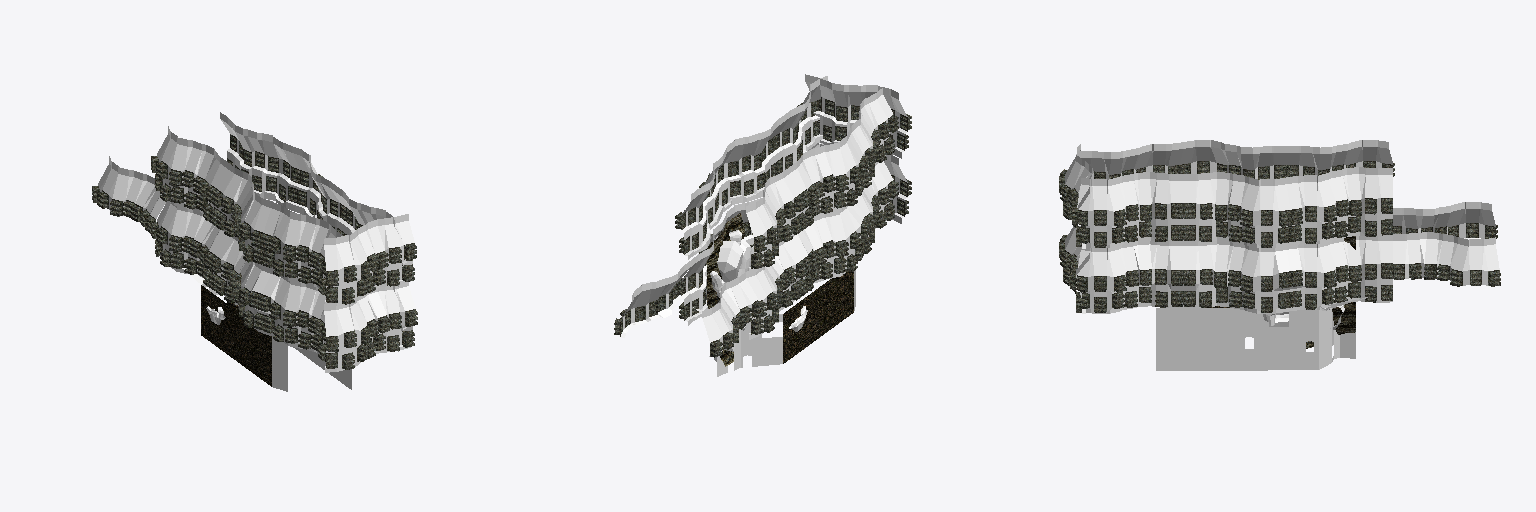
3 renders of one model, left to right at view 1: azimuth 30°, elevation 25°; view 2: azimuth 150°, elevation 25°; view 3: azimuth 270°, elevation 25°, orthographic.
Parts seen in each view (by area): view 1: mesh2, mesh1, mesh0; view 2: mesh2, mesh1, mesh0, mesh3, mesh4, mesh5; view 3: mesh2, mesh1, mesh3.
Part boxes in pixels (x1,y1,x2,y2): mesh2: (98, 112, 415, 391); mesh1: (92, 134, 417, 369); mesh0: (201, 285, 271, 386); mesh2: (621, 74, 907, 376); mesh1: (614, 97, 911, 357); mesh0: (783, 271, 853, 363); mesh3: (706, 213, 744, 366); mesh4: (710, 230, 751, 295); mesh5: (706, 230, 807, 331); mesh2: (1065, 140, 1499, 370); mesh1: (1059, 161, 1500, 312); mesh3: (1306, 236, 1355, 348).
Bounding box in the file's own units: 25.76 × 40.33 × 82.58.
Materials: 6 (3 with a texture image).